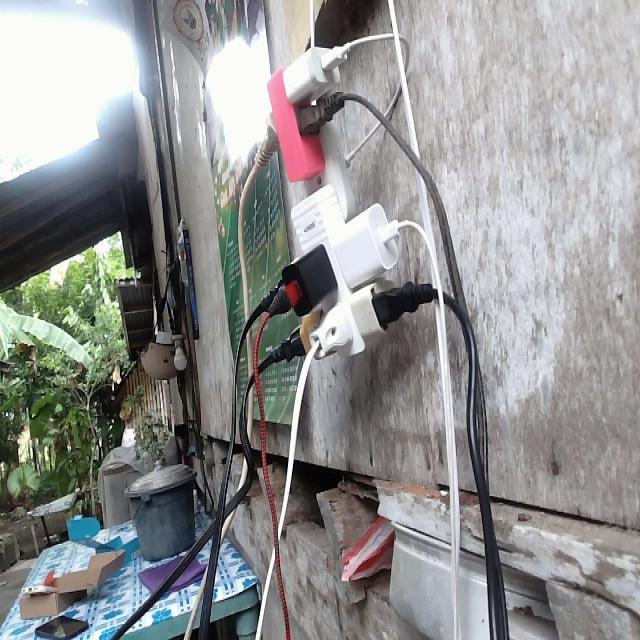-: (253, 43, 435, 365)
